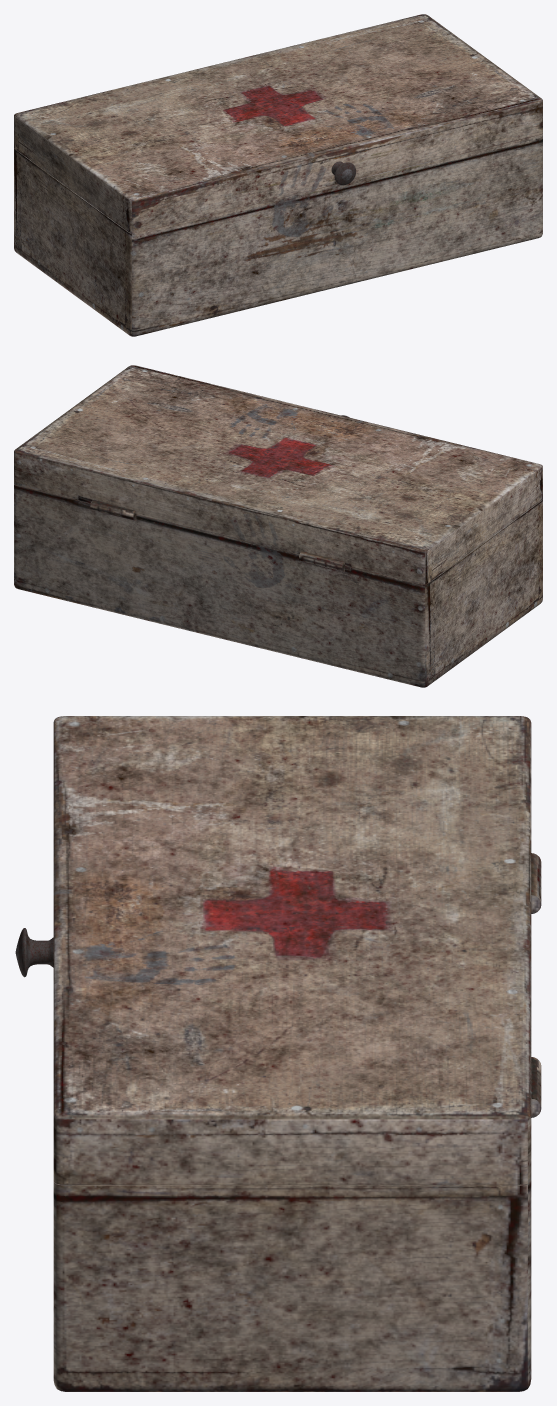
File: russian_first_aid_kit_v3.glb
3 views of the same model, one above another, from view 1: azimuth 30°, elevation 25°; view 2: azimuth 150°, elevation 25°; view 3: azimuth 270°, elevation 25° (orthographic). The views are drawn at different scales.
Parts seen in each view (by area): view 1: Box001; view 2: Box001; view 3: Box001.
Boxes of the visible parts, x1=… form: Box001: x1=14, y1=14, x2=542, y2=336; Box001: x1=14, y1=365, x2=542, y2=687; Box001: x1=15, y1=716, x2=541, y2=1391.
Size of the model in its own units: 1.6 by 0.5137 by 0.8807.
1 material, 1 textured.
